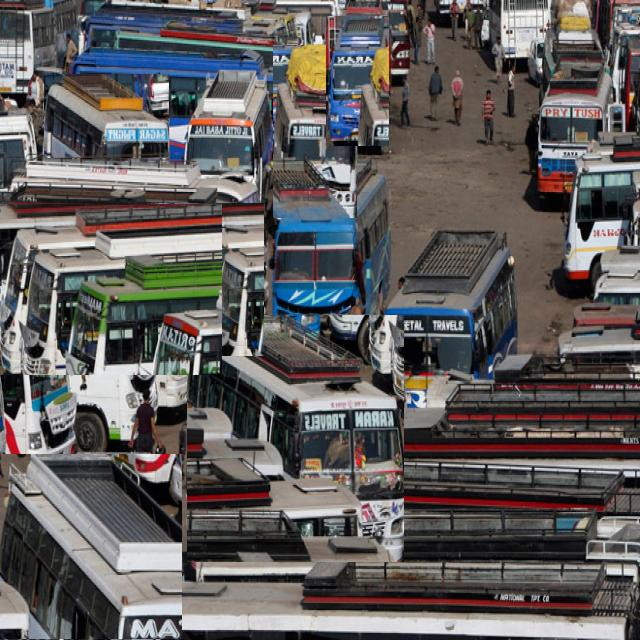bus: (188, 315, 404, 562), (0, 205, 222, 375), (0, 230, 200, 409), (0, 454, 182, 639), (0, 251, 158, 451), (385, 231, 516, 406), (272, 160, 391, 331), (148, 203, 264, 356), (274, 46, 357, 218), (185, 72, 272, 208), (44, 75, 169, 158), (538, 59, 611, 192), (326, 17, 389, 146)
